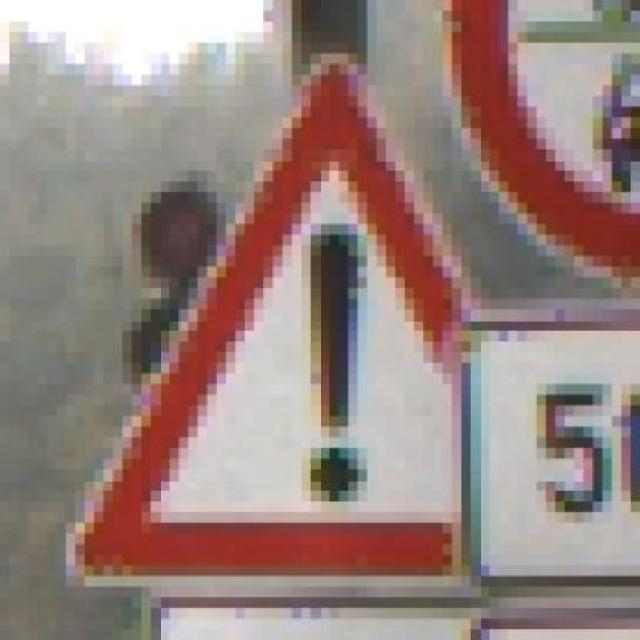Attention Please-: (19, 22, 584, 629)
